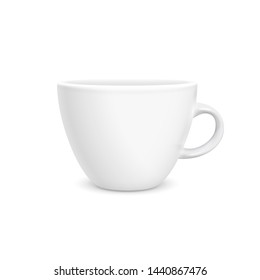cup: (55, 75, 225, 194)
